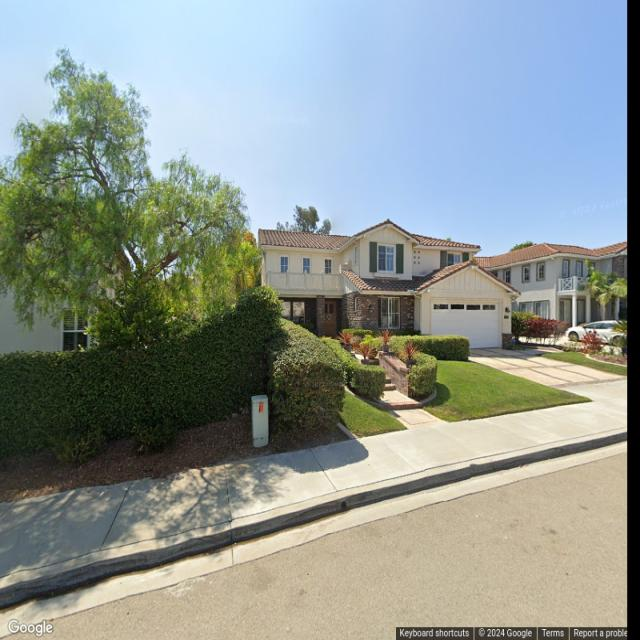House: (258, 218, 521, 349), (0, 230, 132, 354), (473, 242, 628, 338)
